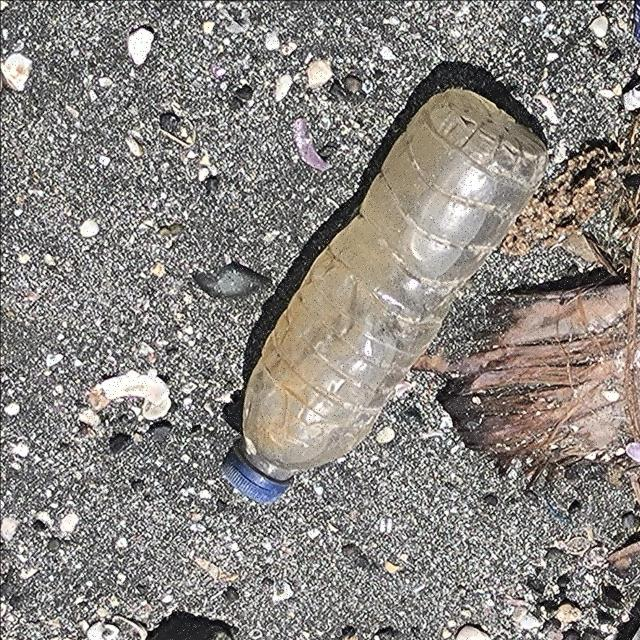plastic_waste: (223, 87, 550, 507)
